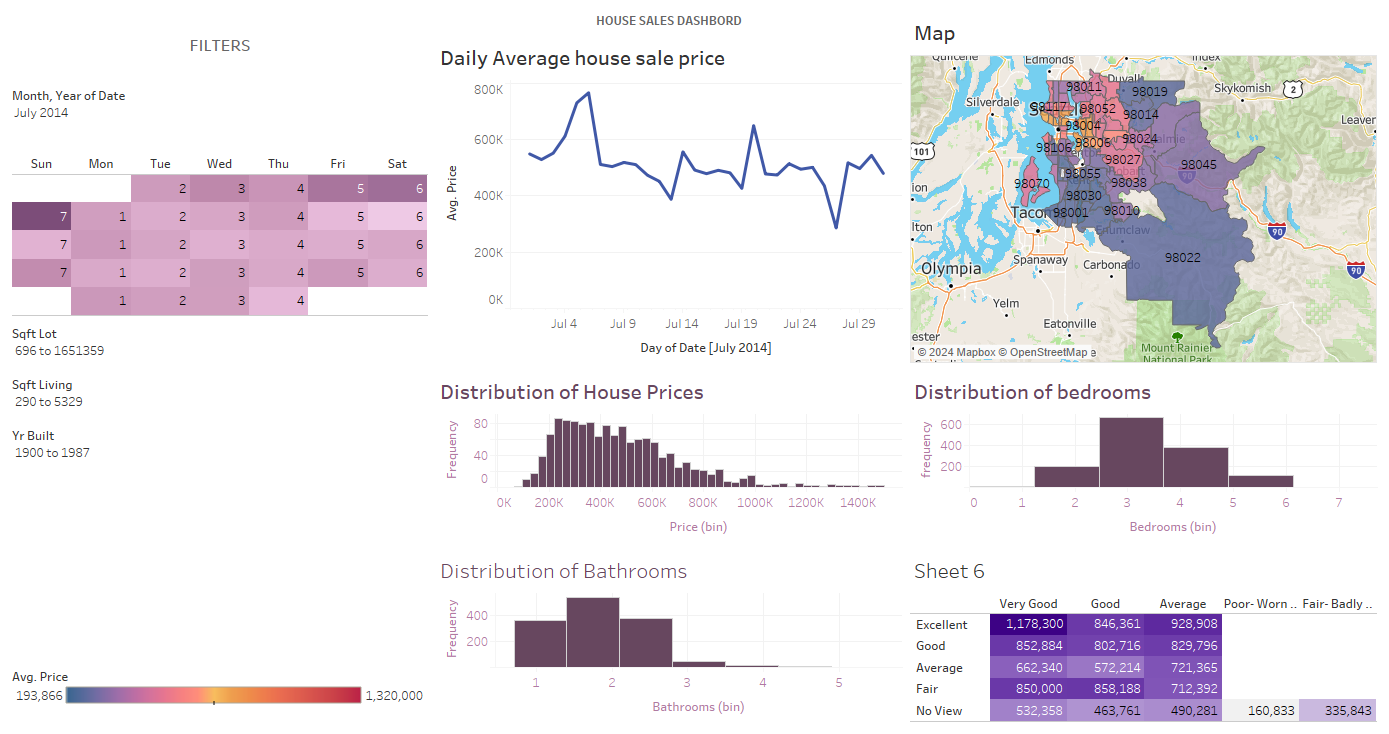

What the dashboard file says about the page in this screenshot:
{"tool":"tableau","page":{"name":"Dashboard 1","canvas":[1000,1000],"units":"permille","ordinal":0},"visuals":[{"type":"text","box":[5.8,10.9,305.2,100.8]},{"type":"text","box":[311,10.9,341.6,34.1]},{"type":"worksheet","title":"MAP","mark":"Automatic","box":[652.6,10.9,341.6,489.1]},{"type":"worksheet","title":"LINE CHART","mark":"Automatic","rows":["price"],"cols":["date"],"box":[311,45,341.6,455]},{"type":"filter","title":"Sheet 7","param":"[federated.0uu3r6y039kn6d1ekcdsi1v43kac].[my:date:ok]","box":[5.8,111.7,305.2,70.9]},{"type":"worksheet","title":"Sheet 7","mark":"Square","rows":["date"],"cols":["date"],"box":[5.8,182.6,305.2,253.4]},{"type":"filter","title":"Sheet 7","param":"[federated.0uu3r6y039kn6d1ekcdsi1v43kac].[none:sqft_lot:qk]","box":[5.8,436,305.2,69.5]},{"type":"worksheet","title":"Sheet 3","mark":"Automatic","rows":["price"],"cols":["Price (bin)"],"box":[311,500,341.6,244.5]},{"type":"worksheet","title":"Sheet 4","mark":"Automatic","rows":["bedrooms"],"cols":["Bedrooms (bin)"],"box":[652.6,500,341.6,244.5]},{"type":"filter","title":"Sheet 7","param":"[federated.0uu3r6y039kn6d1ekcdsi1v43kac].[none:sqft_living:qk]","box":[5.8,505.4,305.2,69.5]},{"type":"filter","title":"Sheet 7","param":"[federated.0uu3r6y039kn6d1ekcdsi1v43kac].[none:yr_built:qk]","box":[5.8,574.9,305.2,69.5]},{"type":"blank","box":[5.8,644.4,305.2,256.1]},{"type":"worksheet","title":"Sheet 5","mark":"Automatic","rows":["bathrooms"],"cols":["Bathrooms (bin)"],"box":[311,744.5,341.6,244.6]},{"type":"worksheet","title":"Sheet 6","mark":"Square","rows":["view"],"cols":["condition"],"box":[652.6,744.5,341.6,244.6]},{"type":"legend","title":"MAP","param":"[federated.0uu3r6y039kn6d1ekcdsi1v43kac].[avg:price:qk]","box":[5.8,900.5,305.2,88.6]}]}

Visuals, with their boxes on the dashboard's canvas, which has no fixed pixel size, in thousandths of its width and height (x1, y1, x2, y2). These are canvas units, not pixel positions in the 1389x734 screenshot, which may show the page scaled, cropped or inside an application window:
text: 6, 11, 311, 112
text: 311, 11, 653, 45
"MAP" worksheet: 653, 11, 994, 500
"LINE CHART" worksheet: 311, 45, 653, 500
"Sheet 7" filter: 6, 112, 311, 183
"Sheet 7" worksheet (Square marks): 6, 183, 311, 436
"Sheet 7" filter: 6, 436, 311, 506
"Sheet 3" worksheet: 311, 500, 653, 744
"Sheet 4" worksheet: 653, 500, 994, 744
"Sheet 7" filter: 6, 505, 311, 575
"Sheet 7" filter: 6, 575, 311, 644
blank: 6, 644, 311, 900
"Sheet 5" worksheet: 311, 744, 653, 989
"Sheet 6" worksheet (Square marks): 653, 744, 994, 989
"MAP" legend: 6, 900, 311, 989
